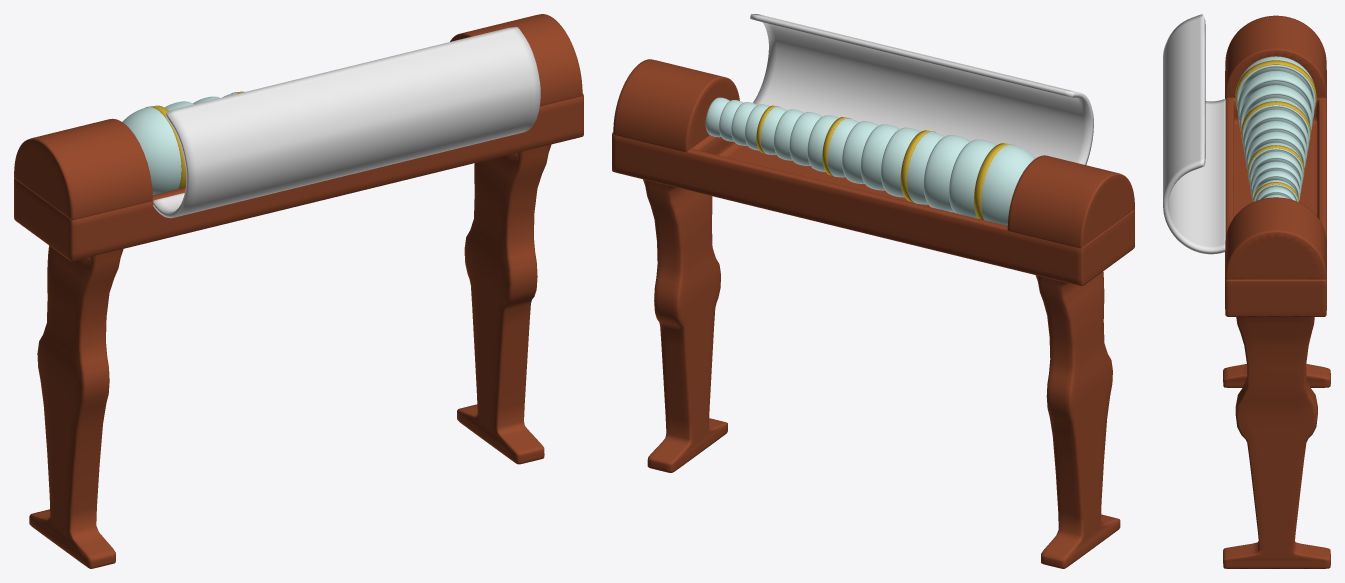
The model's file is GlassHarmonica.fbx.
3 renders of one model, left to right at view 1: azimuth 30°, elevation 25°; view 2: azimuth 150°, elevation 25°; view 3: azimuth 270°, elevation 25°, orthographic. The views are drawn at different scales.
Parts seen in each view (by area): view 1: Cube, Cylinder.001, Sphere; view 2: Cube, Cylinder.001, Sphere, Sphere.001, Sphere.002, Sphere.004, Sphere.005, Sphere.003, Sphere.006, Sphere.009, Sphere.007, Sphere.008 (+3 smaller); view 3: Cube, Cylinder.001, Sphere.001, Sphere.002, Sphere, Sphere.004, Sphere.005, Sphere.006, Sphere.003, Sphere.008, Sphere.009, Sphere.016 (+6 smaller).
Boxes of the visible parts, left/top/right/bottom form: Cube: left=14, top=14, right=583, bottom=568; Cylinder.001: left=153, top=27, right=540, bottom=218; Sphere: left=122, top=107, right=181, bottom=194; Cube: left=612, top=59, right=1134, bottom=568; Cylinder.001: left=750, top=14, right=1093, bottom=164; Sphere: left=981, top=144, right=1035, bottom=225; Sphere.001: left=949, top=139, right=996, bottom=218; Sphere.002: left=923, top=135, right=970, bottom=212; Sphere.004: left=881, top=127, right=920, bottom=197; Sphere.005: left=860, top=124, right=899, bottom=190; Sphere.003: left=907, top=131, right=944, bottom=204; Sphere.006: left=842, top=121, right=878, bottom=183; Sphere.009: left=789, top=112, right=822, bottom=165; Sphere.007: left=827, top=118, right=858, bottom=177; Sphere.008: left=807, top=115, right=838, bottom=171; Cube: left=1223, top=15, right=1330, bottom=568; Cylinder.001: left=1163, top=14, right=1225, bottom=254; Sphere.001: left=1237, top=71, right=1314, bottom=120; Sphere.002: left=1239, top=85, right=1312, bottom=131; Sphere: left=1236, top=56, right=1315, bottom=108; Sphere.004: left=1243, top=109, right=1308, bottom=152; Sphere.005: left=1244, top=121, right=1307, bottom=161; Sphere.006: left=1246, top=131, right=1305, bottom=168; Sphere.003: left=1242, top=98, right=1309, bottom=142; Sphere.008: left=1249, top=151, right=1302, bottom=185; Sphere.009: left=1250, top=161, right=1301, bottom=194; Sphere.016: left=1235, top=60, right=1316, bottom=110.
Bounding box in the file's own units: 1202 × 1010 × 393.
